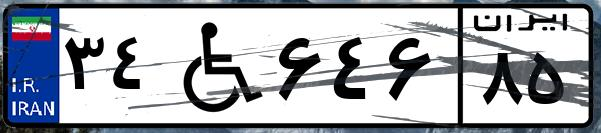3: (57, 26, 110, 100)
4: (330, 28, 385, 110), (110, 28, 158, 98)
5: (525, 38, 570, 115)
6: (270, 28, 330, 110), (385, 28, 445, 110)
8: (475, 38, 525, 113)
ژ (معلولین و جانبازان): (158, 12, 270, 120)
